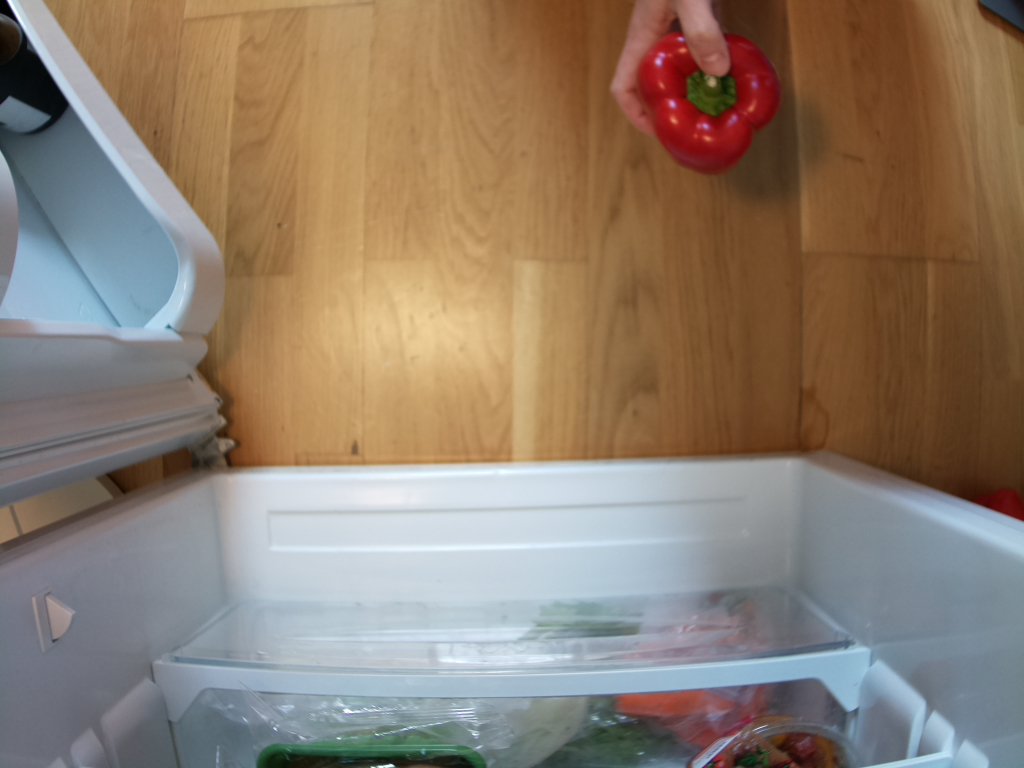pepper: (636, 32, 779, 175)
